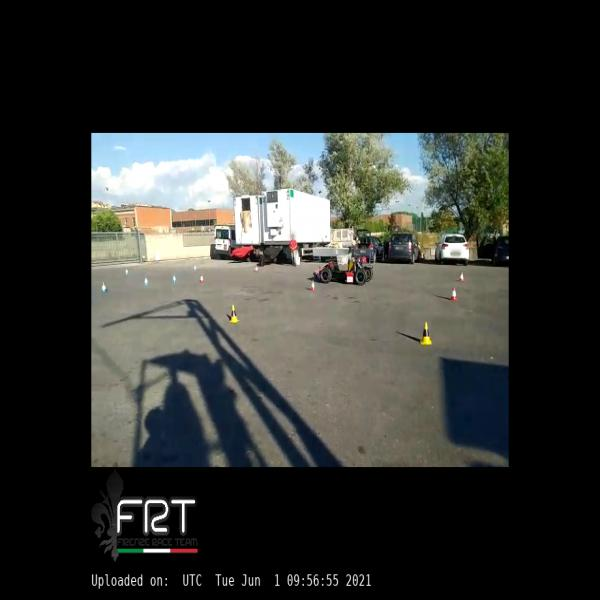blue_cone: (171, 273, 177, 283), (102, 281, 107, 292), (144, 274, 149, 285), (124, 267, 129, 276), (193, 264, 197, 272)
orange_cone: (309, 279, 316, 292), (450, 287, 457, 300), (458, 271, 466, 282), (200, 272, 204, 283)
unknown_cone: (252, 263, 259, 272)
yellow_cone: (420, 321, 432, 345), (230, 305, 238, 323)
